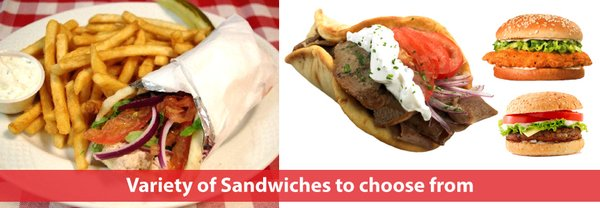soup: (284, 12, 495, 153), (481, 13, 591, 80), (497, 90, 586, 157)
sushi: (0, 52, 44, 117)
